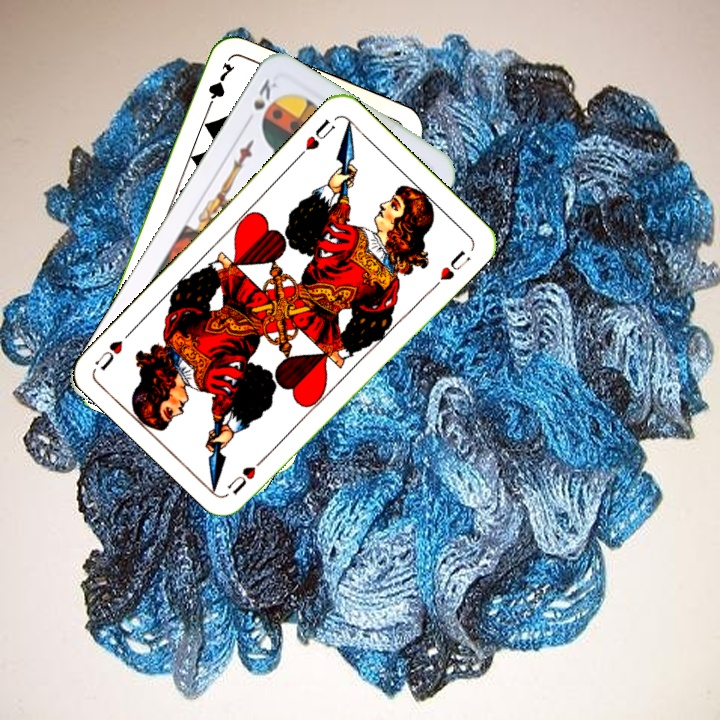G7: (202, 58, 238, 115)
HU: (223, 450, 271, 498), (294, 115, 338, 161)
SK: (249, 74, 282, 113)
